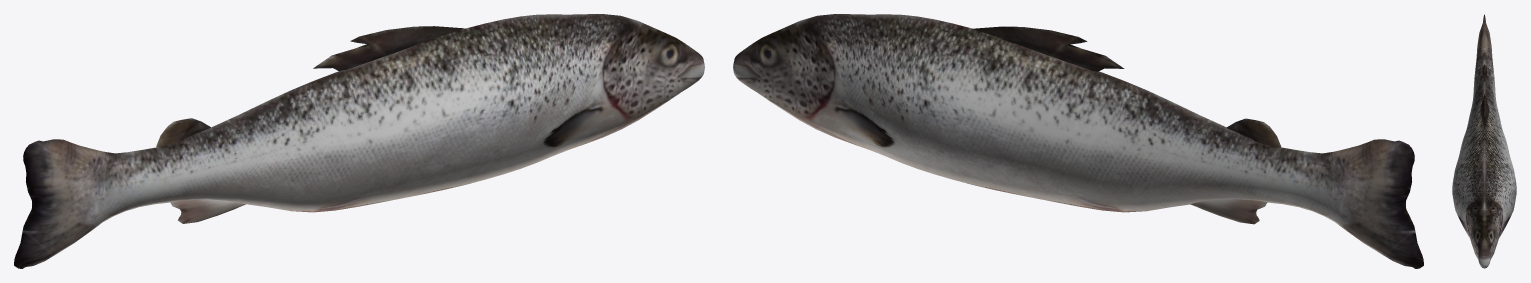
The model's file is Fish 5.fbx.
The picture shows the model from 3 angles, left to right: view 1: azimuth 30°, elevation 25°; view 2: azimuth 150°, elevation 25°; view 3: azimuth 270°, elevation 25°; orthographic projection. The views are drawn at different scales.
Parts seen in each view (by area): view 1: Fish_5; view 2: Fish_5; view 3: Fish_5.
Part boxes in pixels (bbox=[...]): Fish_5: bbox=[14, 14, 704, 268]; Fish_5: bbox=[733, 14, 1423, 268]; Fish_5: bbox=[1452, 14, 1516, 268].
Size of the model in its own units: 11.44 by 2.76 by 1.54.
Materials: 1 (1 with a texture image).
